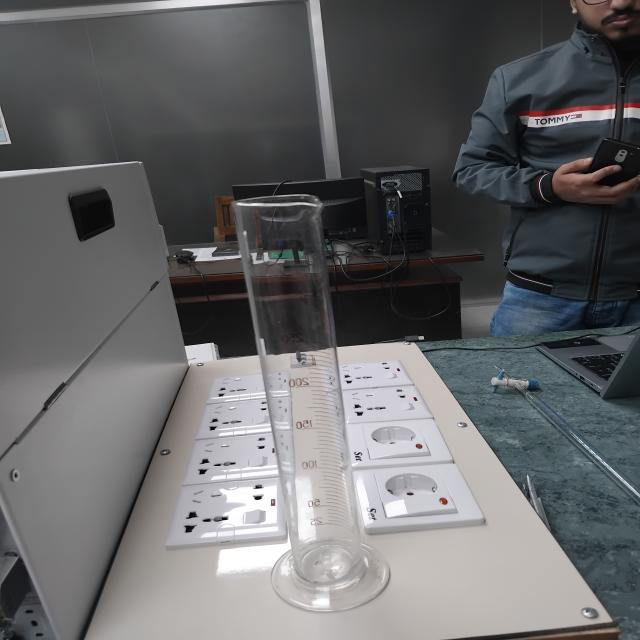Measuring_Cylinder: (198, 141, 414, 619)
